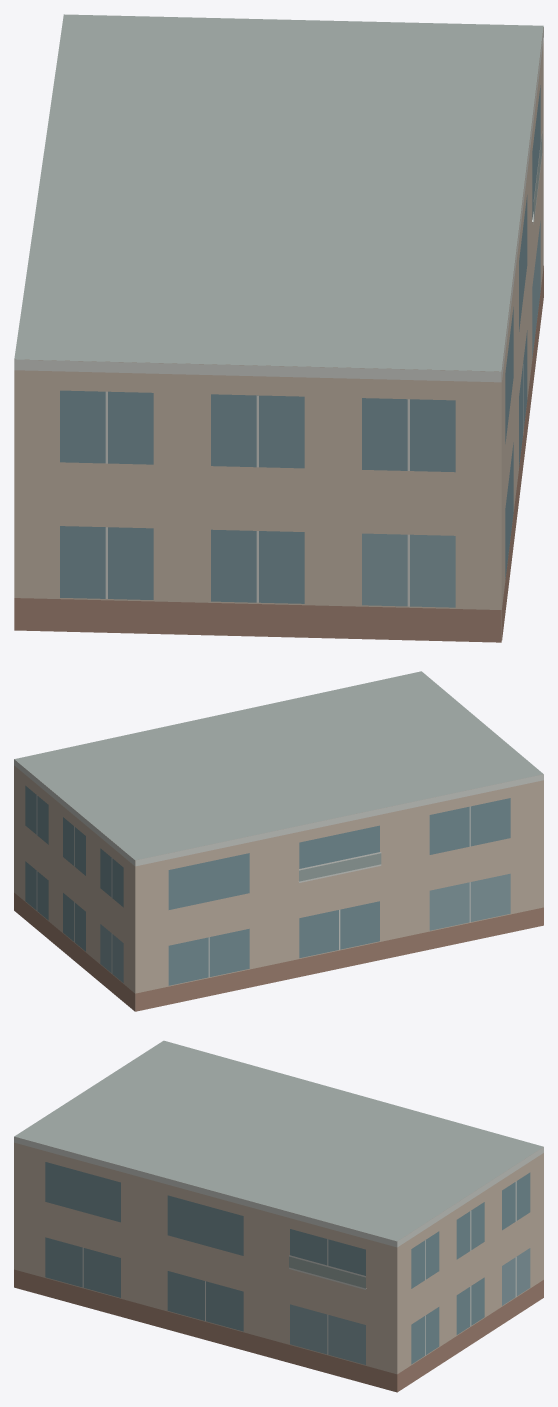
File: survey-upis-32608447.glb
3 renders of one model, top to bottom at view 1: azimuth 30°, elevation 25°; view 2: azimuth 150°, elevation 25°; view 3: azimuth 270°, elevation 25°, orthographic. The views are drawn at different scales.
Parts seen in each view (by area): view 1: survey-upis-32608447.tmp; view 2: survey-upis-32608447.tmp; view 3: survey-upis-32608447.tmp.
Boxes of the visible parts, <box> form: survey-upis-32608447.tmp: <box>14,14,543,642</box>; survey-upis-32608447.tmp: <box>14,671,543,1011</box>; survey-upis-32608447.tmp: <box>14,1040,543,1392</box>.
Bounding box in the file's own units: 17.42 × 6.1 × 19.41.
